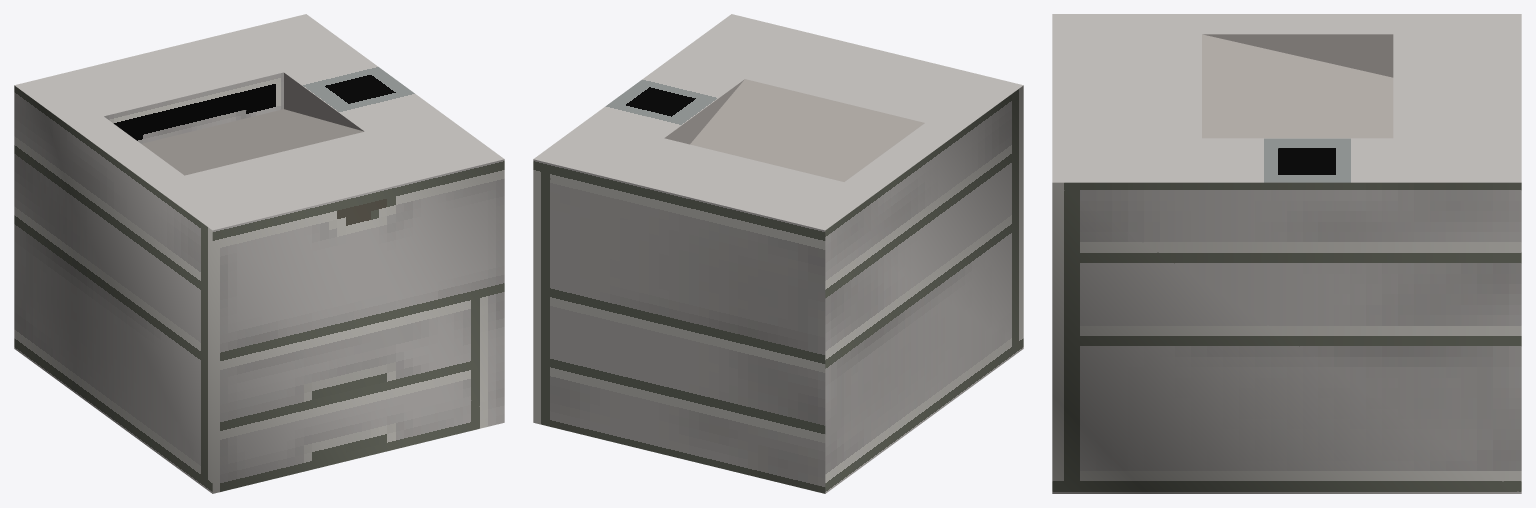
The model's file is printer.fbx.
3 views of the same model, side by side, from view 1: azimuth 30°, elevation 25°; view 2: azimuth 150°, elevation 25°; view 3: azimuth 270°, elevation 25° (orthographic). The views are drawn at different scales.
Parts seen in each view (by area): view 1: printer; view 2: printer; view 3: printer.
Part boxes in pixels (left/top/right/bottom): printer: left=14, top=14, right=504, bottom=493; printer: left=533, top=14, right=1023, bottom=493; printer: left=1052, top=14, right=1521, bottom=493.
Bounding box in the file's own units: 1 × 0.8618 × 1.18.
